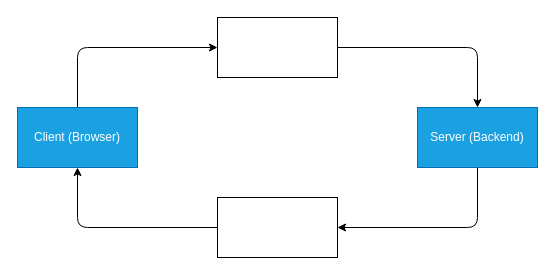
The diagram is 555 pixels wide and 275 high, and some of its shapes have lost their labels. The shapes that lost their labels are listed below. From the top down, each one's box as (x1, y1, x2, y2) in pixels, then its label:
(216, 16, 338, 78): Request (with user credentials)
(216, 196, 338, 258): Response -> Auth Token <-
